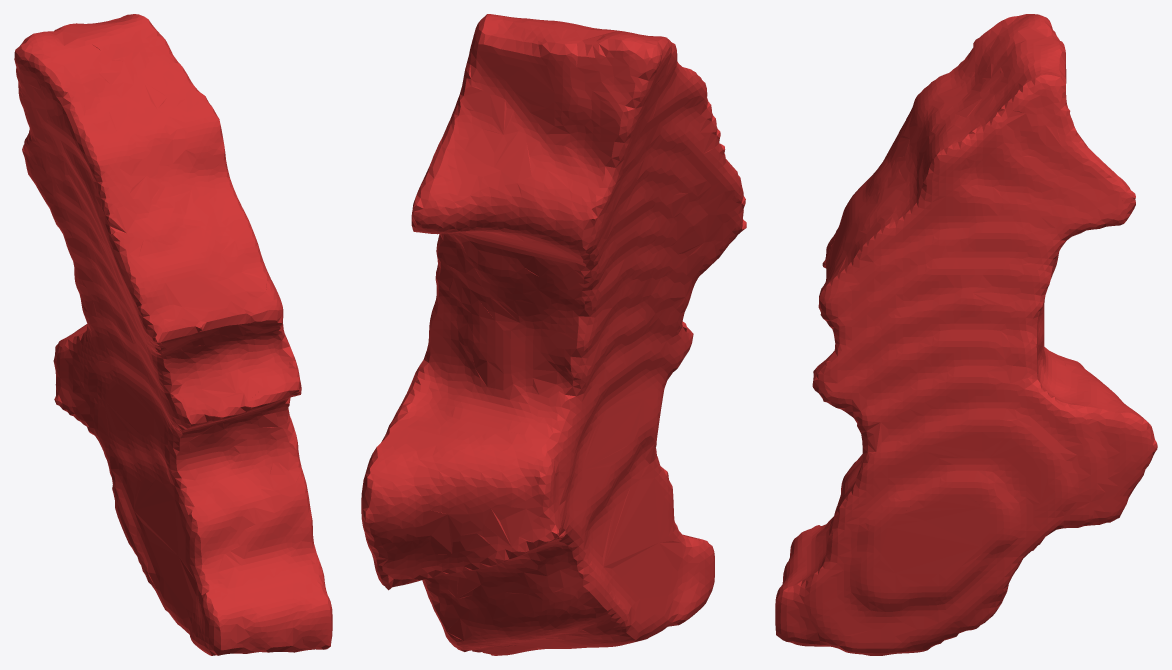
File: Model_130_RH__Temporal_area_TE3_(TE3).obj
3 views of the same model, side by side, from view 1: azimuth 30°, elevation 25°; view 2: azimuth 150°, elevation 25°; view 3: azimuth 270°, elevation 25° (orthographic). The views are drawn at different scales.
Bounding box in the file's own units: 3.16 × 8.51 × 5.27.
